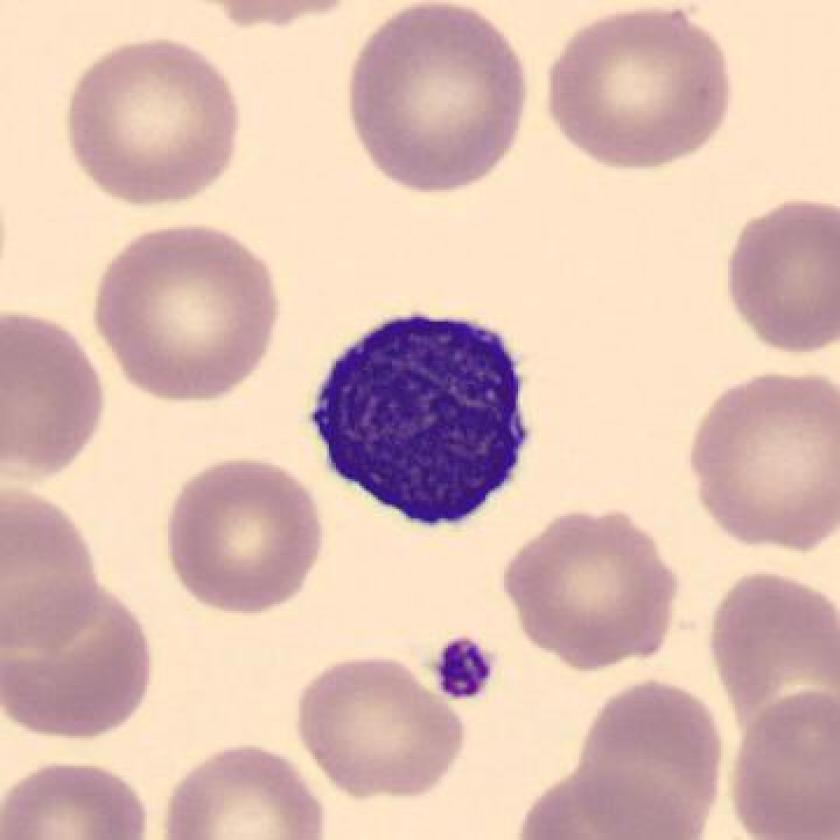lymphocyte: (300, 295, 547, 540)
